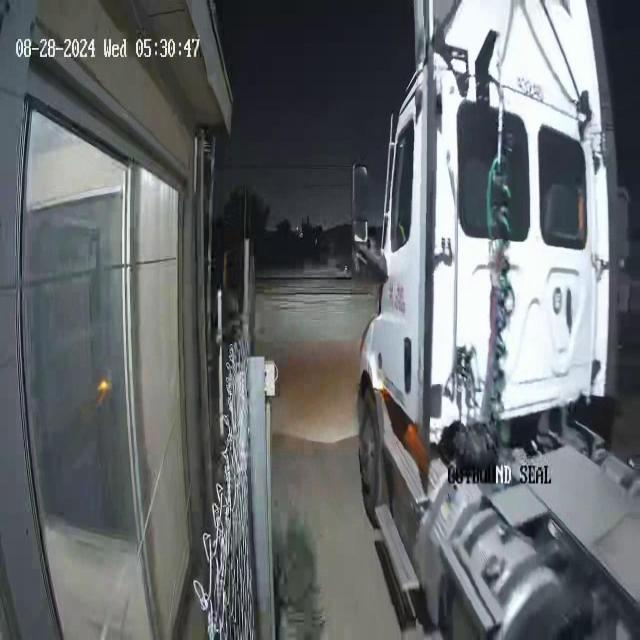TRUCK_OUT: (350, 1, 633, 638)
